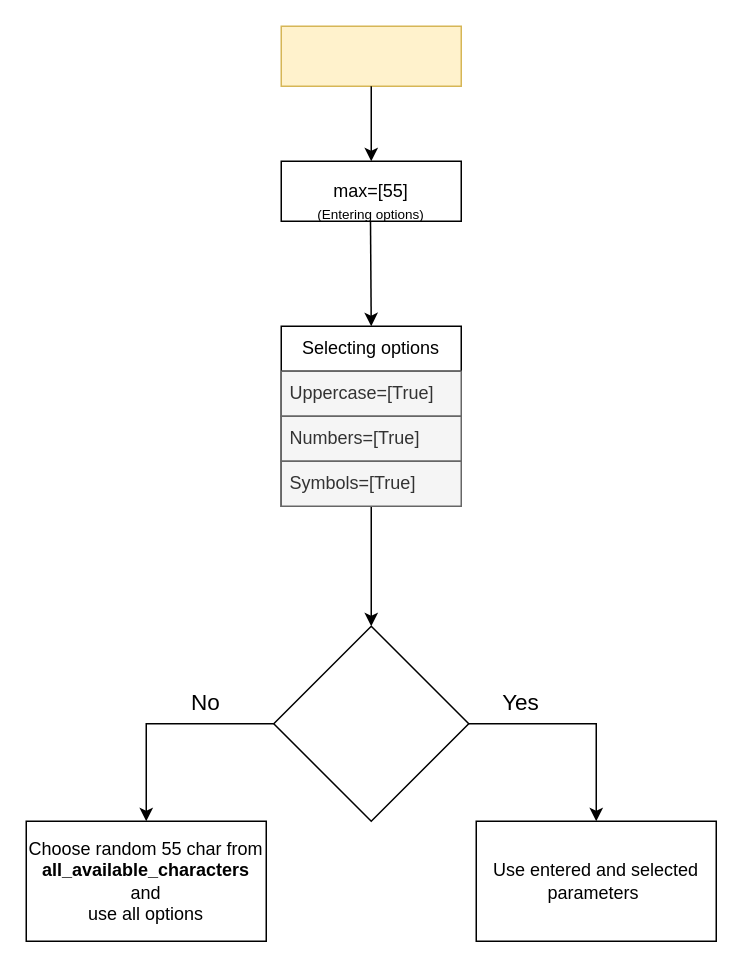
Some shapes in this 743 by 968 pixel diagram are drawn without their labels. The shapes that lost their labels are listed below. From the top down, each one's centre as x and y in pixels, then its label:
At (370,55): "User parameters".
At (370,723): "Did user change default settings?".
